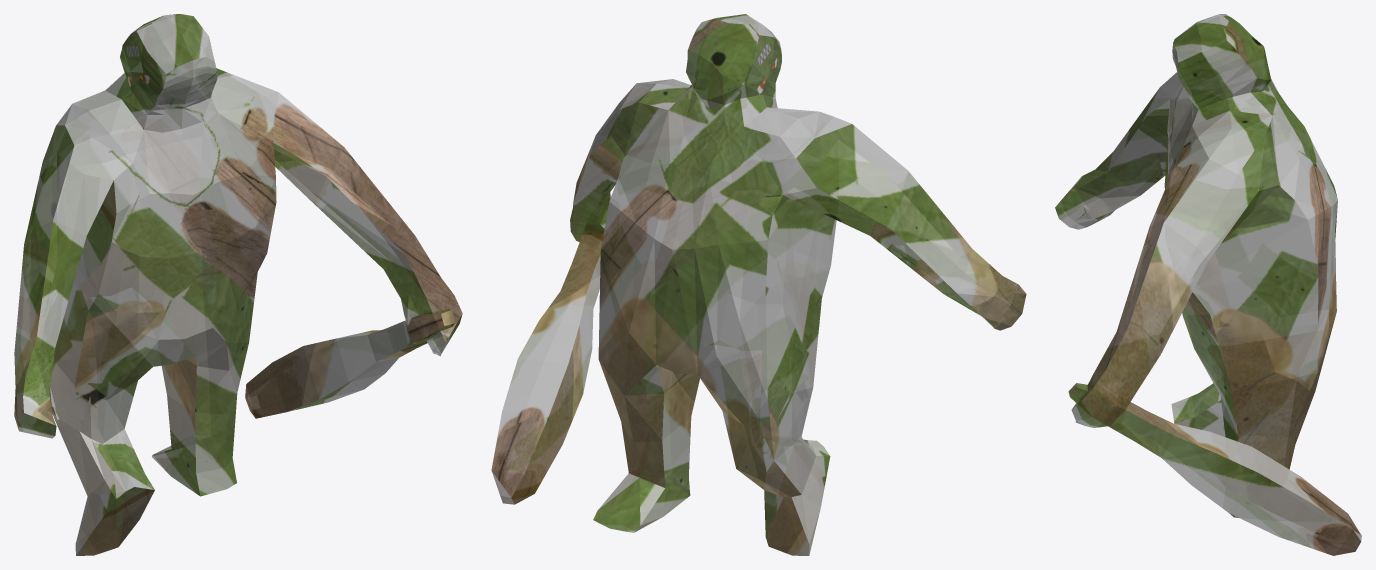
Rendered from Enemigo28.obj.
3 views of the same model, side by side, from view 1: azimuth 30°, elevation 25°; view 2: azimuth 150°, elevation 25°; view 3: azimuth 270°, elevation 25° (orthographic). The views are drawn at different scales.
Parts seen in each view (by area): view 1: Cube; view 2: Cube; view 3: Cube.
Boxes of the visible parts, x1,y1,x2,y2 form: Cube: (14, 14, 462, 555); Cube: (491, 14, 1026, 555); Cube: (1055, 14, 1361, 555).
Size of the model in its own units: 2.54 by 2.86 by 1.6.
